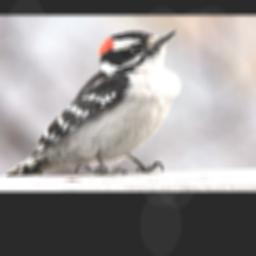Woodpecker: (6, 30, 183, 178)
